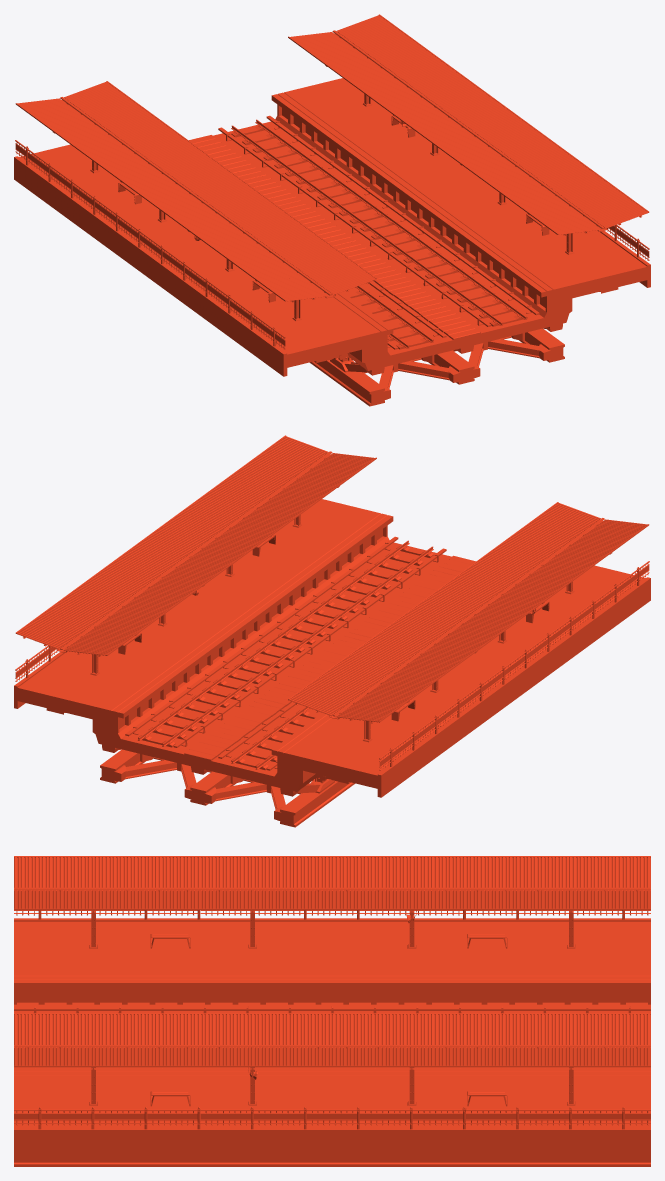
The model's file is SM_Rails_Overground_Station_B_City.fbx.
3 renders of one model, top to bottom at view 1: azimuth 30°, elevation 25°; view 2: azimuth 150°, elevation 25°; view 3: azimuth 270°, elevation 25°, orthographic. The views are drawn at different scales.
Visible parts, largest first — view 1: SM_Rails_Overground_Station_B_City; view 2: SM_Rails_Overground_Station_B_City; view 3: SM_Rails_Overground_Station_B_City.
Part boxes in pixels (left/top/right/bottom): SM_Rails_Overground_Station_B_City: left=14, top=14, right=650, bottom=406; SM_Rails_Overground_Station_B_City: left=14, top=435, right=650, bottom=827; SM_Rails_Overground_Station_B_City: left=14, top=856, right=650, bottom=1166.
Size of the model in its own units: 23.6 by 7.77 by 30.01.
